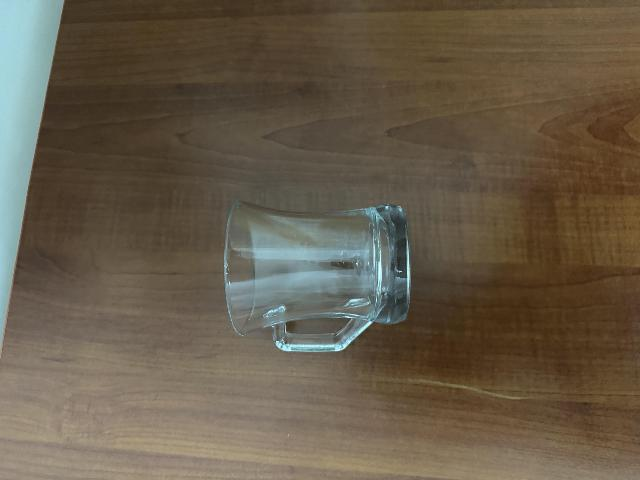Cam: (221, 198, 416, 356)
